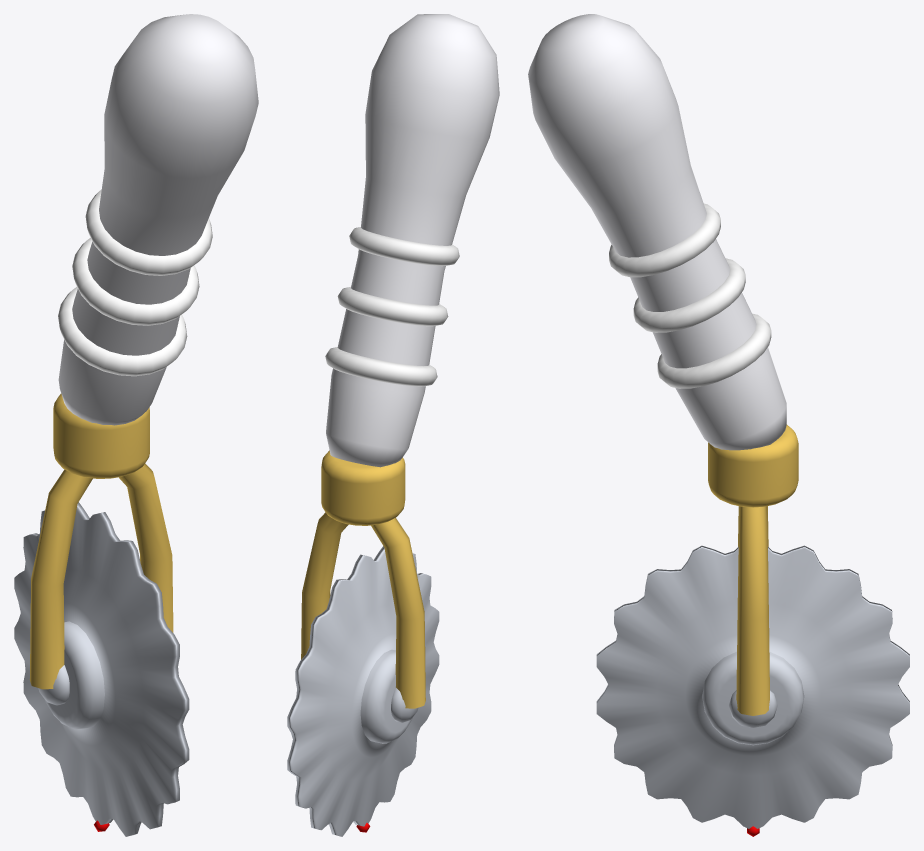
File: PastryCutter.obj
The picture shows the model from 3 angles, left to right: view 1: azimuth 30°, elevation 25°; view 2: azimuth 150°, elevation 25°; view 3: azimuth 270°, elevation 25°; orthographic projection. The views are drawn at different scales.
Visible parts, largest first — view 1: Handle, Wheel, Fork, Bands; view 2: Handle, Wheel, Fork, Bands; view 3: Wheel, Handle, Fork, Bands.
Part boxes in pixels (box(x1,y1,x2,y2)): Handle: box(58, 14, 258, 425); Wheel: box(14, 502, 189, 836); Fork: box(29, 393, 173, 689); Bands: box(58, 189, 212, 376); Handle: box(326, 14, 499, 467); Wheel: box(287, 546, 439, 836); Fork: box(301, 450, 425, 708); Bands: box(325, 227, 459, 386); Wheel: box(596, 545, 909, 828); Handle: box(528, 14, 786, 450); Fork: box(708, 424, 798, 715); Bands: box(609, 203, 771, 388).
Size of the model in its own units: 0.8 by 4.76 by 2.02.
